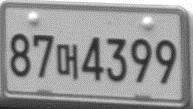3: (106, 37, 127, 82)
4: (81, 36, 103, 81)
7: (31, 33, 54, 79)
8: (10, 33, 31, 77)
9: (154, 40, 177, 86), (129, 38, 152, 82)
머: (55, 43, 78, 81)
